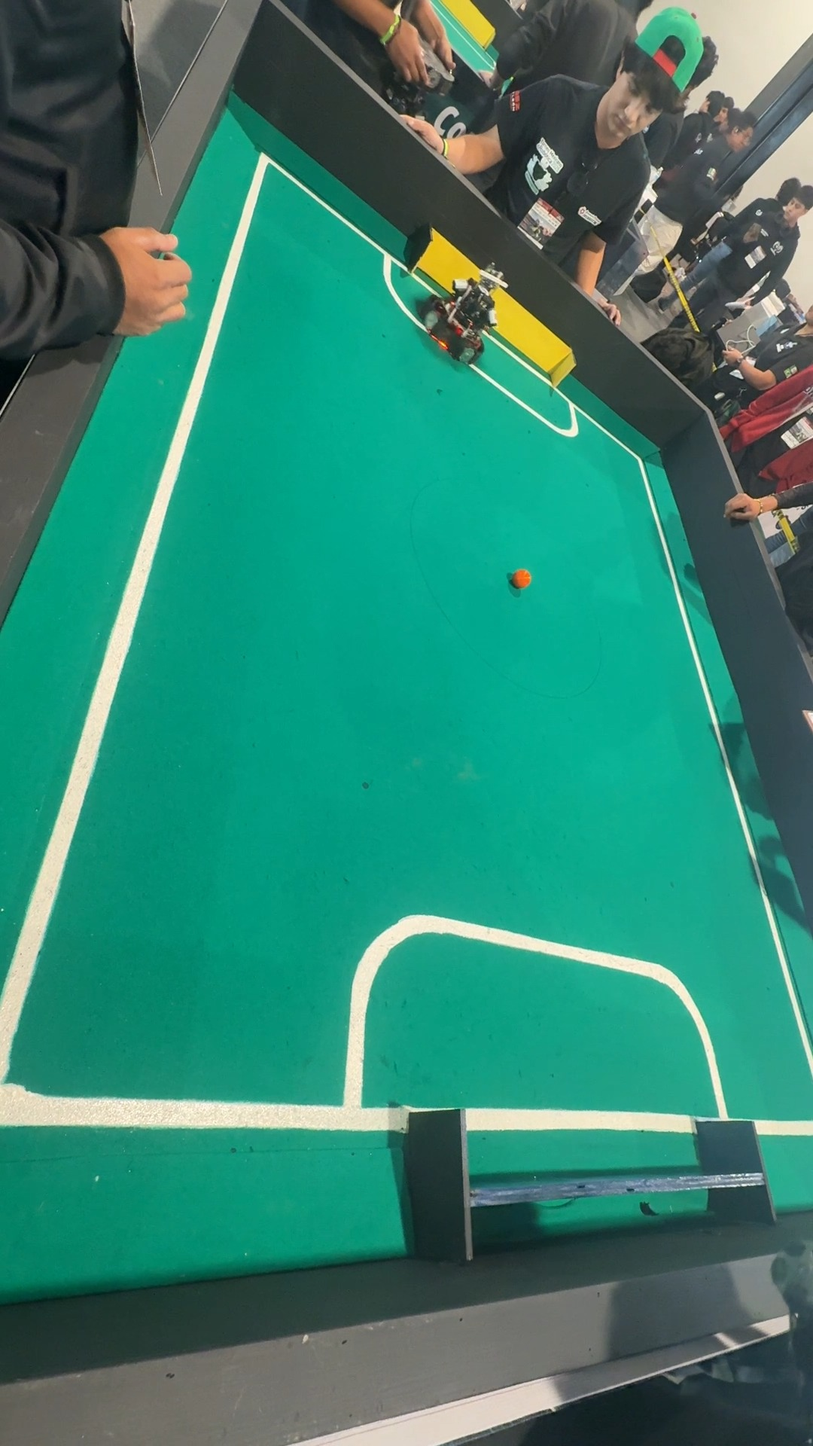Robot: (411, 263, 503, 379)
pelota: (513, 566, 532, 594)
